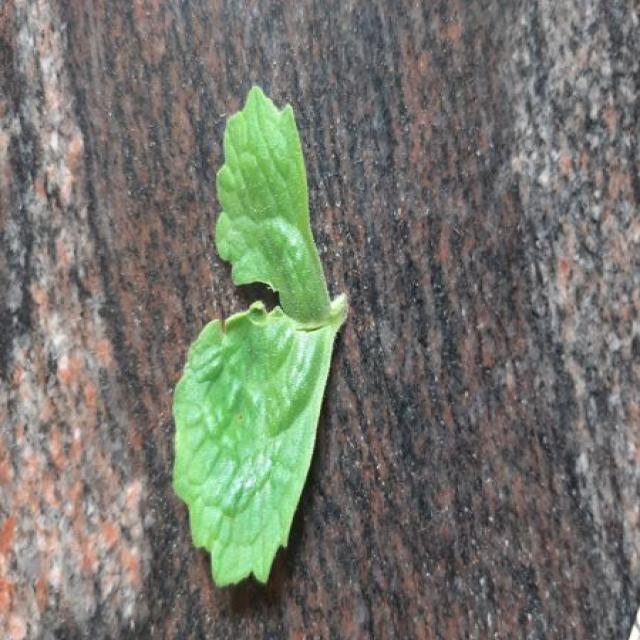doddpathre: (173, 88, 347, 584)
